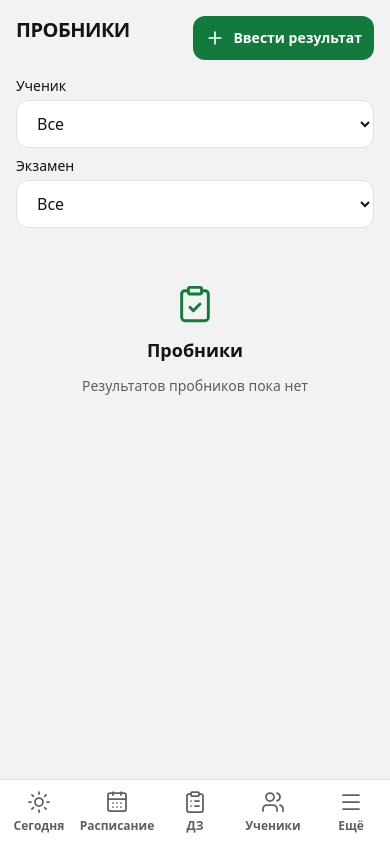
Test: Пробники: форма ввода › сохранение отправляет ученика, экзамен, дату и баллы и закрывает форму
Expected: the text "Результатов пробников пока нет" is shown, [82,376,308,396]
Click the button "Ввести результат". click: [284, 38]
box: [193,16,374,60]
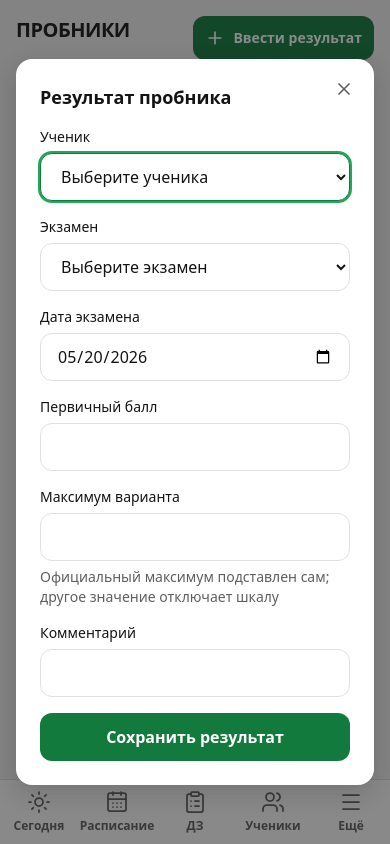
Select "Аня Иванова" in the dropdown labelled "Ученик". click: [195, 177]
box: [40,153,350,201]
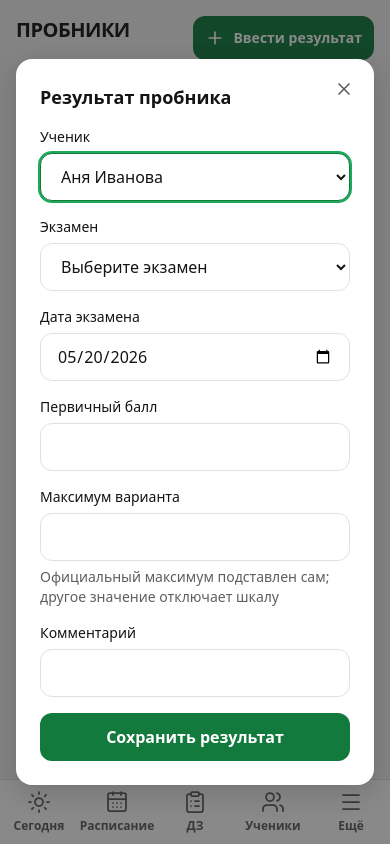
Select "ЕГЭ — Информатика" in the dropdown labelled "Экзамен". click: [195, 267]
box: [40,243,350,291]
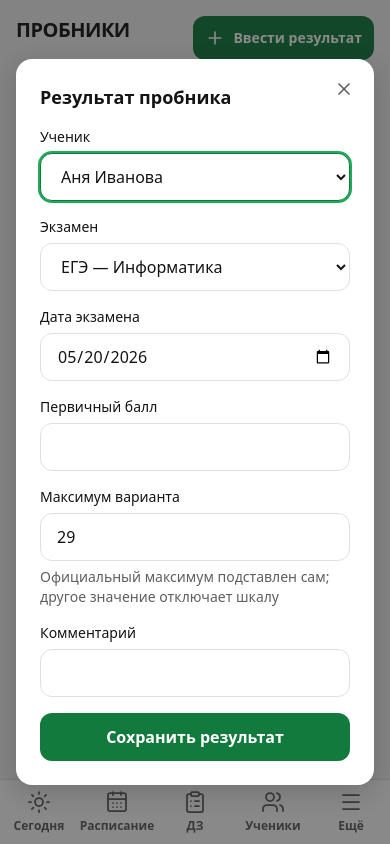
Type "20" into the field labelled "Первичный балл". click: [195, 447]
box: [40,423,350,471]
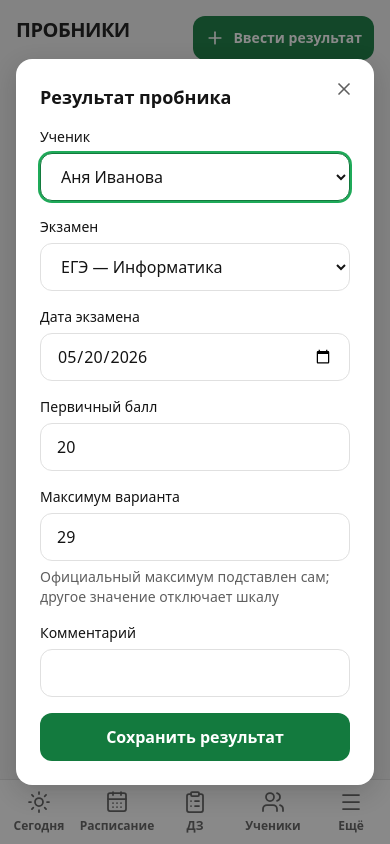
Type "Вариант 3" into the field labelled "Комментарий". click: [195, 673]
box: [40,649,350,697]
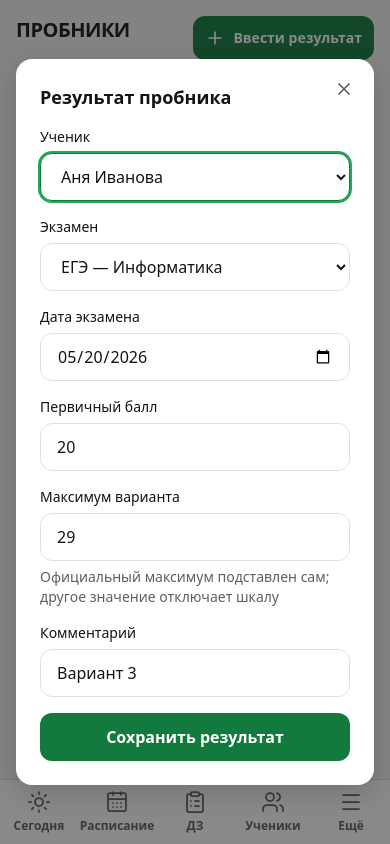
Click the button "Сохранить результат". click: [195, 737]
box: [40,713,350,761]
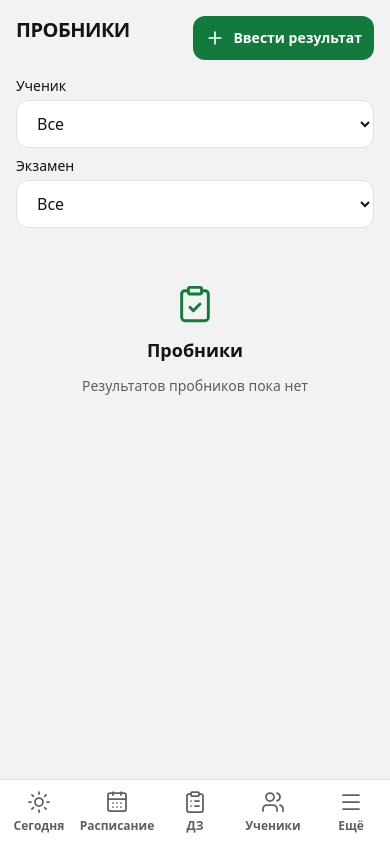
Now the dialog is gone
